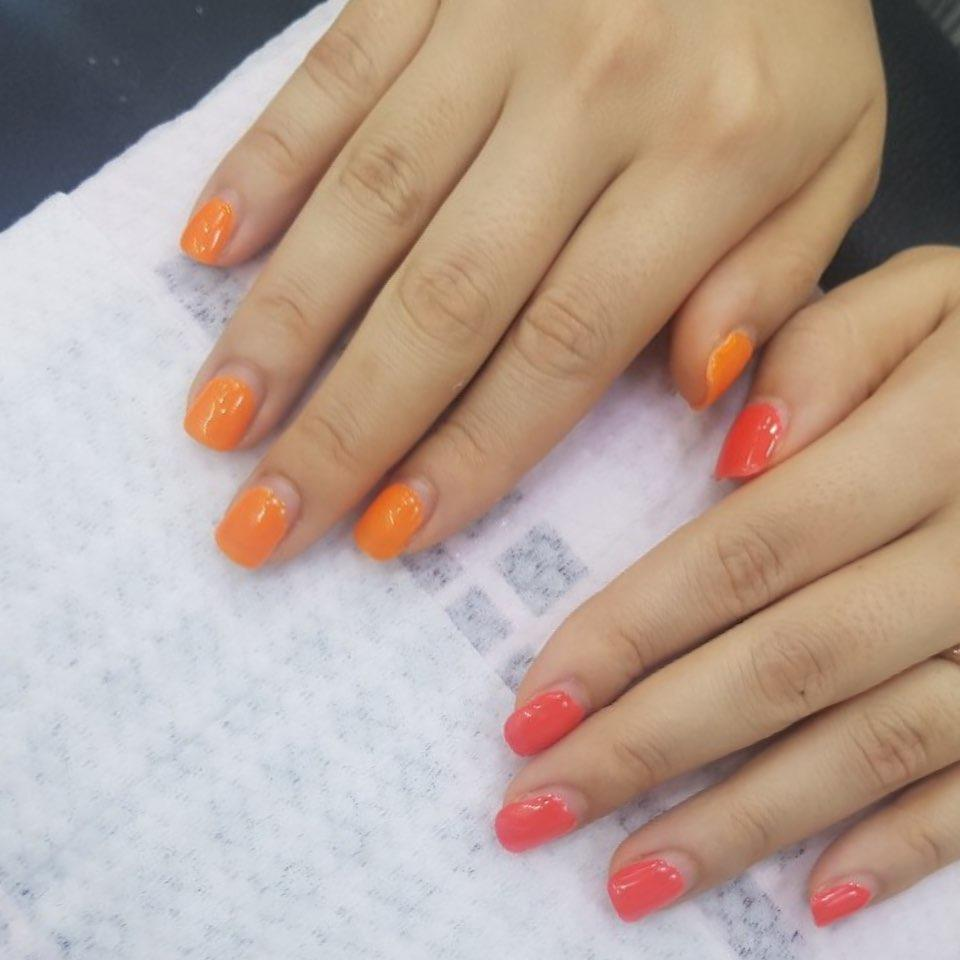nail: (213, 471, 301, 568), (352, 472, 437, 561), (182, 361, 263, 451), (713, 394, 787, 480), (502, 681, 586, 756), (606, 852, 690, 922), (493, 786, 579, 852), (700, 325, 756, 408), (178, 191, 236, 265), (809, 873, 877, 927)
